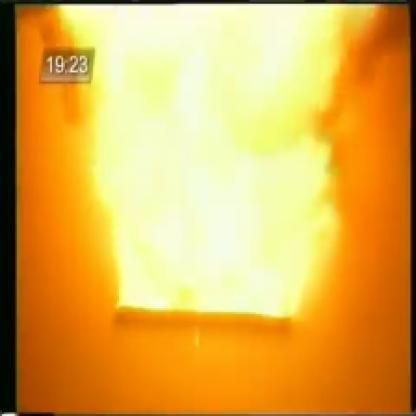fire: (32, 5, 375, 340)
